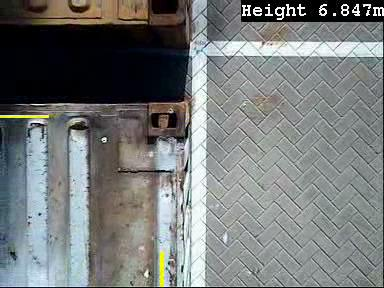groundmarker_2: (164, 213, 236, 266), (162, 22, 234, 74)
